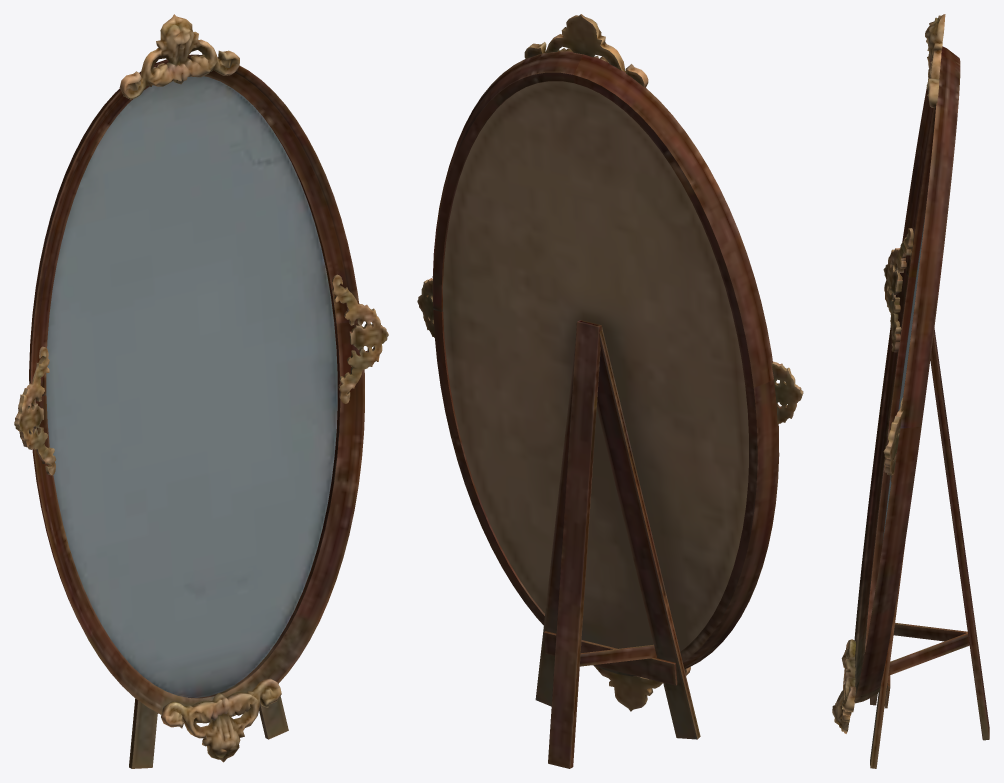
Rendered from SM_Mirror_4a995d.glb.
The picture shows the model from 3 angles, left to right: view 1: azimuth 30°, elevation 25°; view 2: azimuth 150°, elevation 25°; view 3: azimuth 270°, elevation 25°; orthographic projection. The views are drawn at different scales.
Bounding box in the file's own units: 0.9023 × 1.65 × 0.3266.
1 material, 1 textured.
